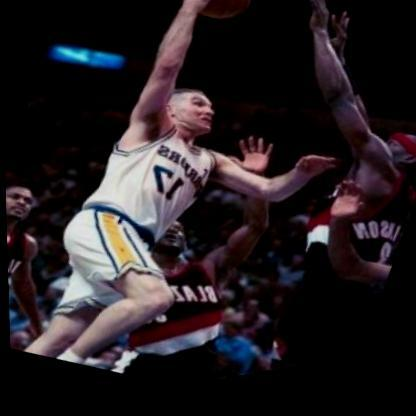basketball: (170, 0, 266, 48)
